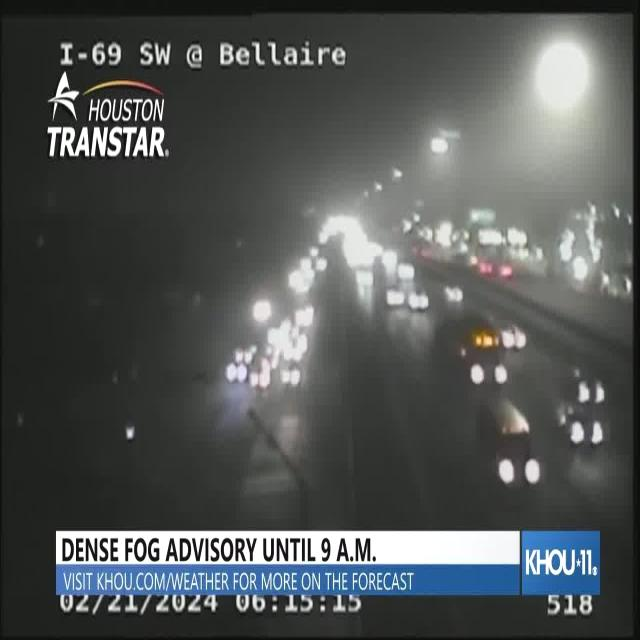Car: (468, 386, 548, 499), (543, 401, 617, 456), (570, 365, 606, 409), (440, 274, 464, 314), (406, 285, 432, 319)
